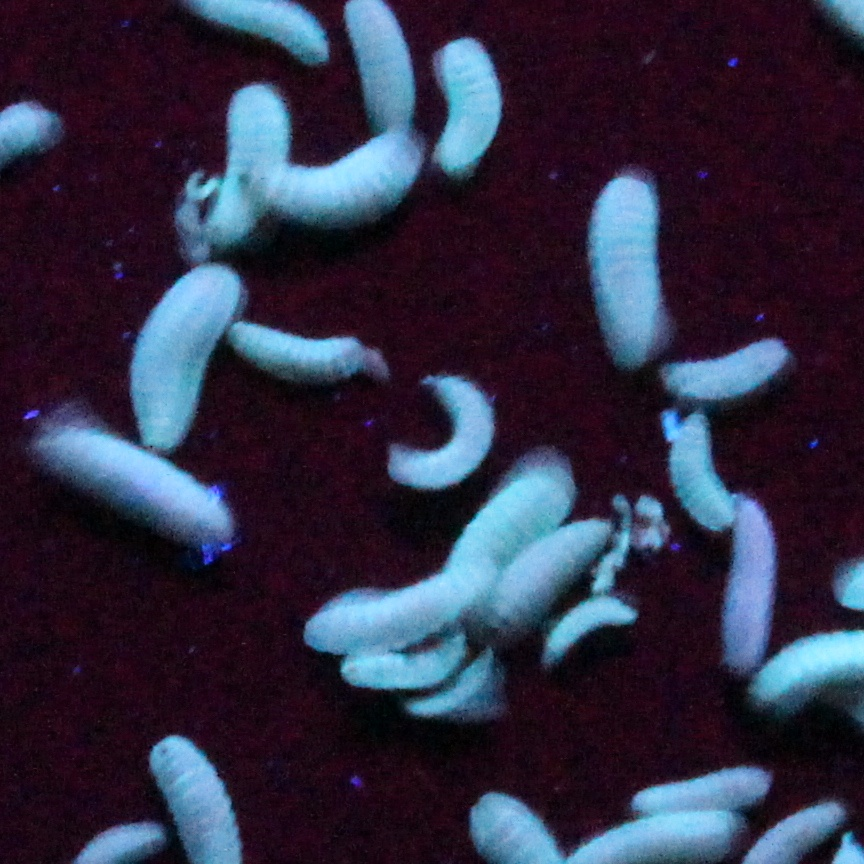larve: (42, 425, 228, 538), (142, 252, 235, 458), (477, 514, 622, 634), (595, 178, 675, 378), (388, 365, 495, 505), (208, 98, 295, 258), (268, 132, 428, 218), (299, 580, 482, 652), (735, 492, 782, 698), (435, 32, 495, 192), (630, 758, 775, 813), (235, 325, 362, 385), (665, 340, 779, 403), (672, 410, 730, 529), (342, 646, 468, 692), (548, 614, 631, 666)
